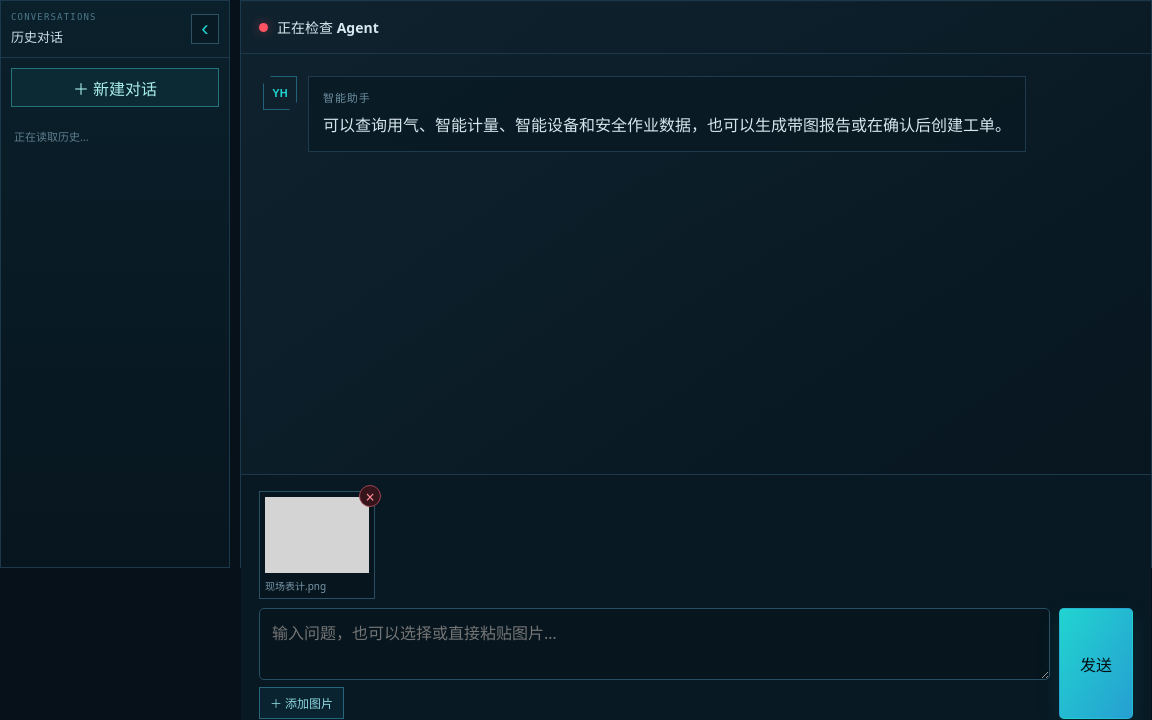
Test case: 智能问答页面 › 支持直接粘贴图片并在没有文字时发送
Click the button "发送": (1096, 664) [1059,608,1133,719]
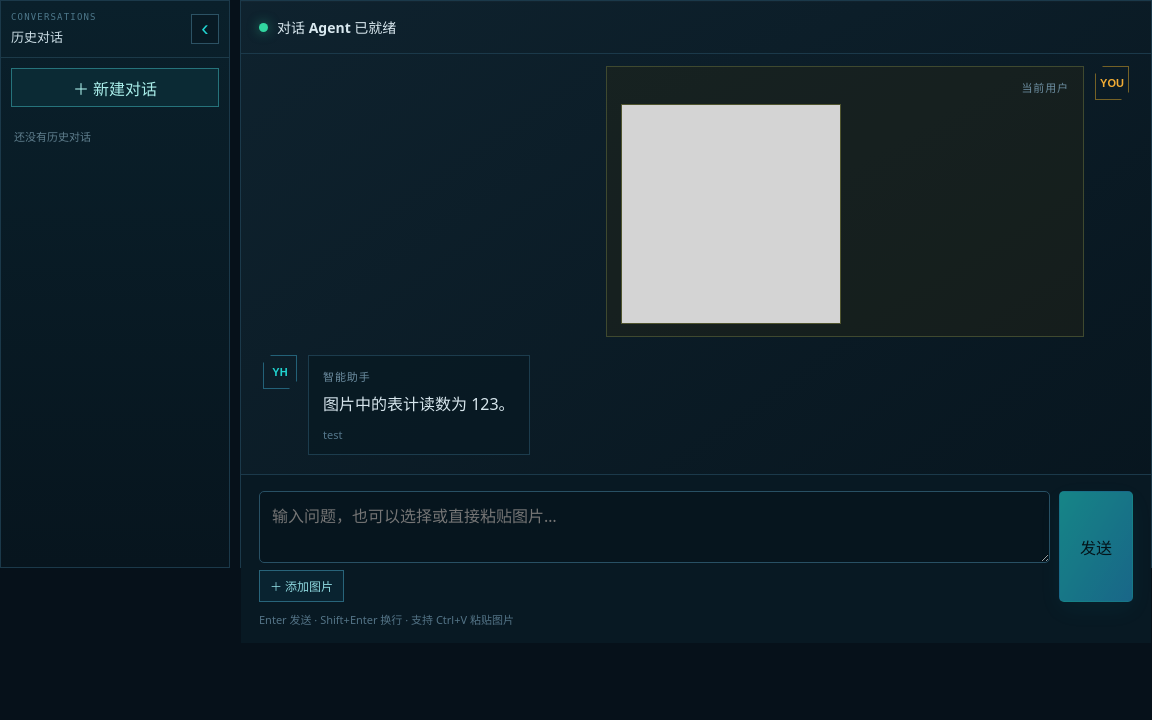
Now the text "图片中的表计读数为 123。" is shown, box [323,390,515,418]
